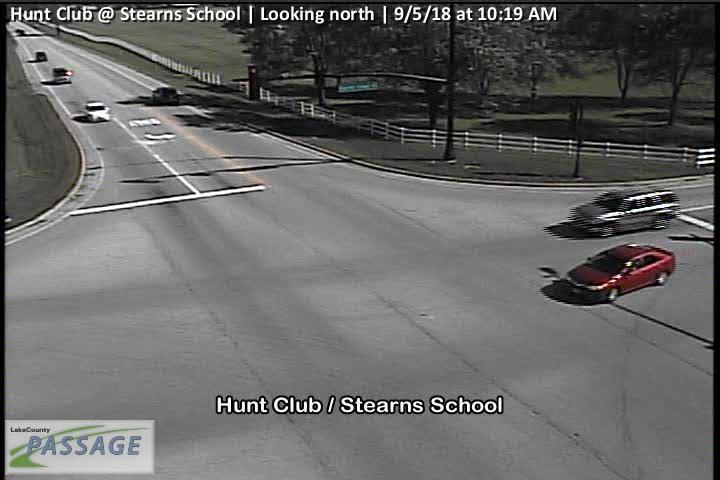SUV: (573, 186, 681, 237)
Sedan: (557, 243, 678, 301), (84, 102, 110, 122), (152, 85, 179, 104), (51, 65, 72, 83), (34, 50, 48, 62)
